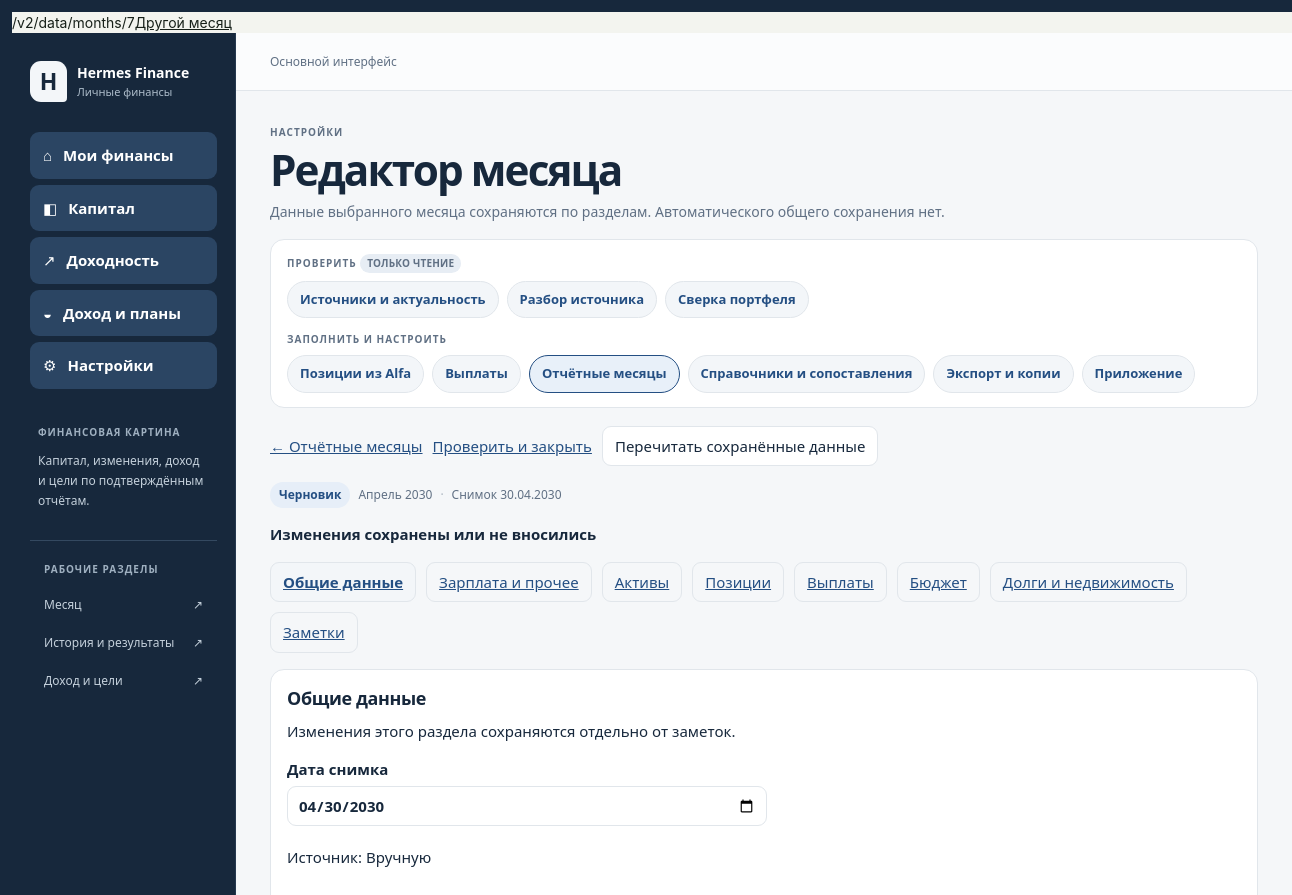
Scenario: native month editor frame › rereads saved data with feedback while a dirty draft disables the action
This screenshot has width=1292, height=895.
Click the button "Перечитать сохранённые данные": (740, 446) [602,426,878,466]
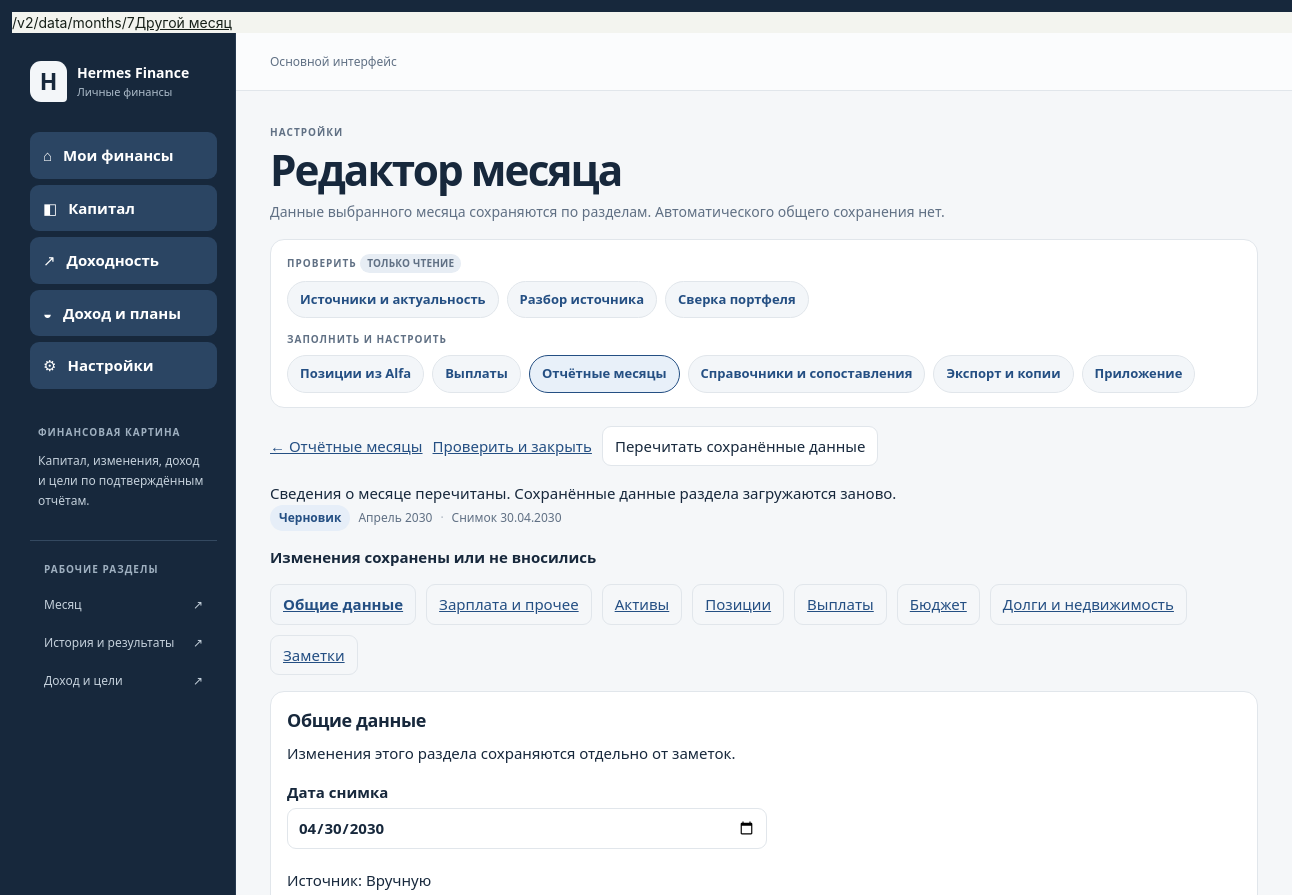
Now the text "Сведения о месяце перечитаны. Сохранённые данные раздела загружаются заново." is shown, box [270,483,896,503]
In the date field labelled "Дата снимка": (527, 829) [287,808,767,849], type "2030-04-29"
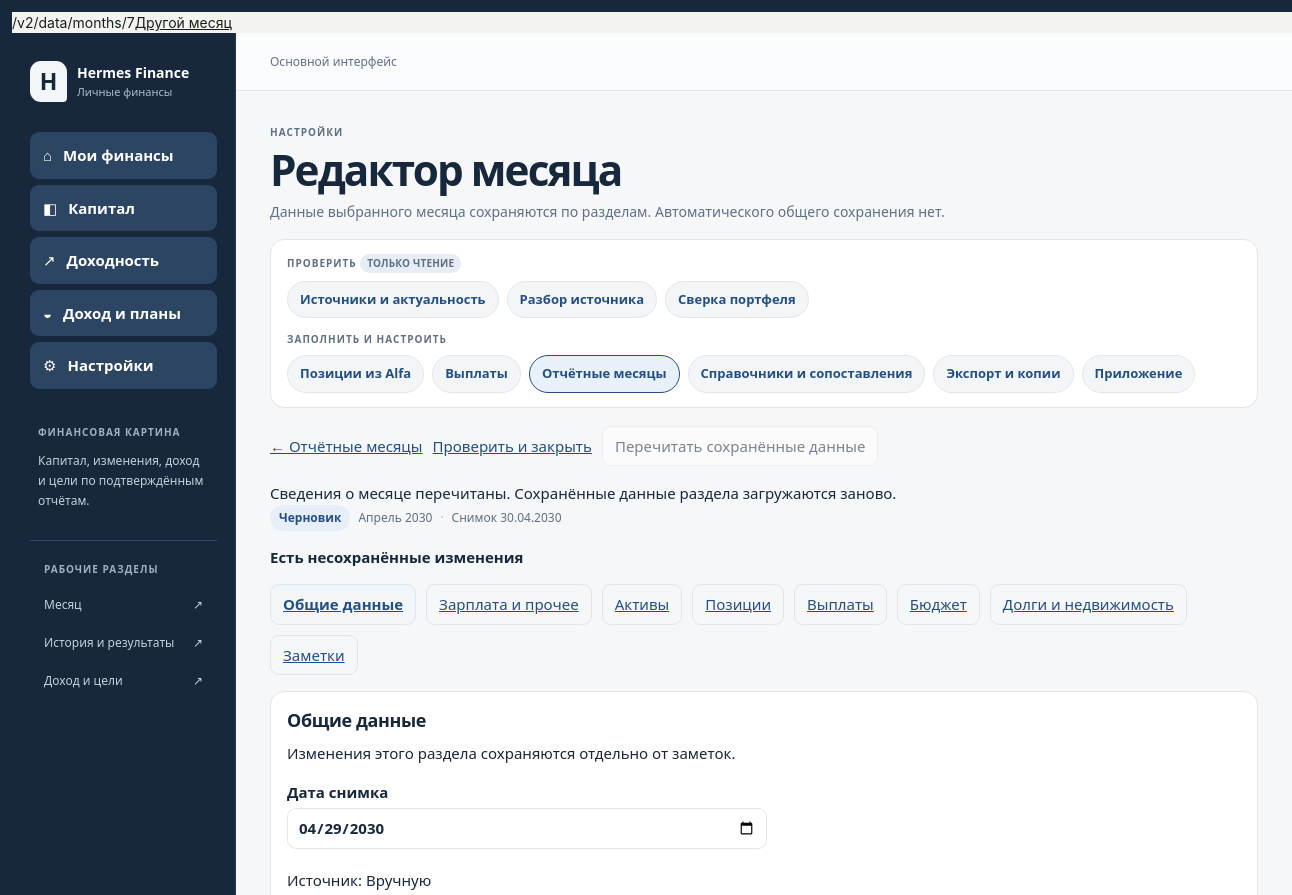
Now the button "Перечитать сохранённые данные" is disabled, box [602,426,878,466]
